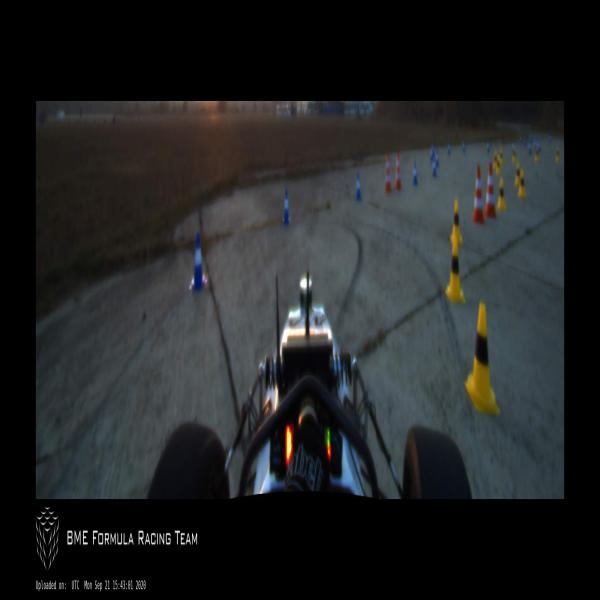blue_cone: (190, 234, 206, 291), (282, 189, 290, 223), (356, 173, 362, 201), (412, 162, 418, 184), (432, 159, 437, 176), (447, 141, 451, 156), (430, 147, 433, 162), (436, 150, 438, 167)
large_orange_cone: (471, 165, 485, 223), (484, 163, 496, 218), (394, 147, 403, 191), (384, 150, 392, 193)
yellow_cone: (467, 302, 500, 416), (446, 236, 466, 303), (450, 199, 463, 244), (497, 179, 506, 210), (514, 162, 520, 188), (519, 172, 525, 196), (496, 155, 501, 177), (500, 147, 503, 165), (494, 152, 497, 168)
